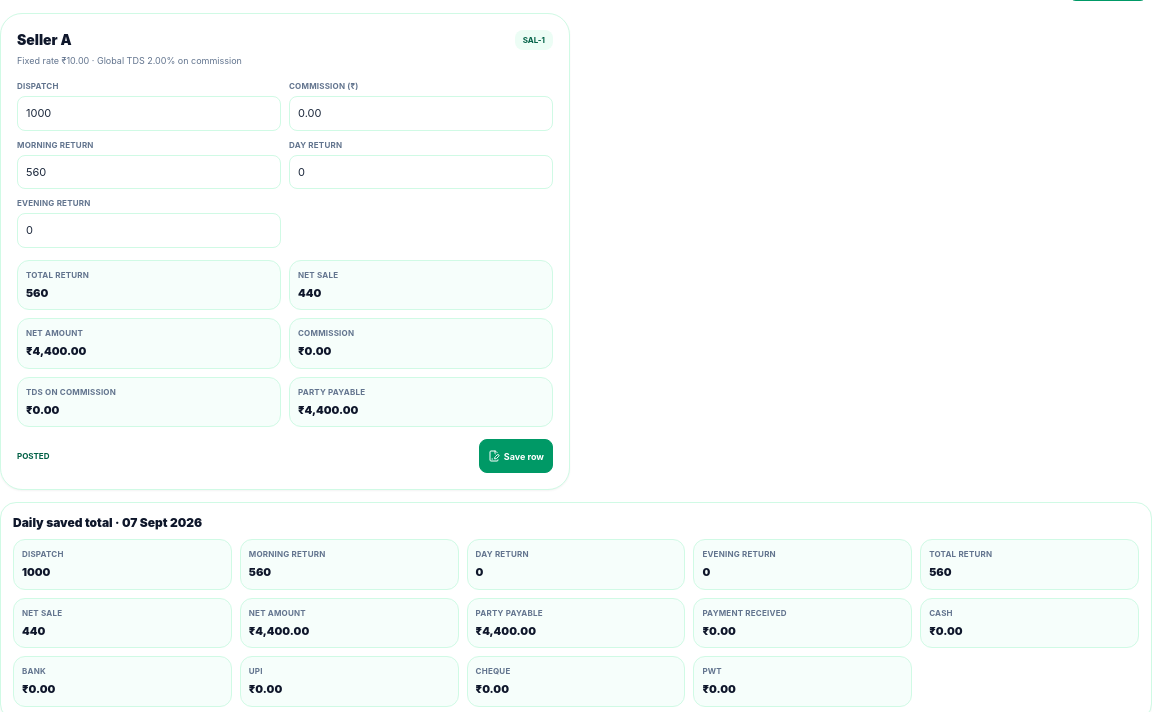
it: DailySellerEntry local-first projection › publishes a current manual persistence error and shows the original Error message
(page scrolled)
Click the button "Save row" at (516, 456), box [479, 439, 553, 473]
(page scrolled)
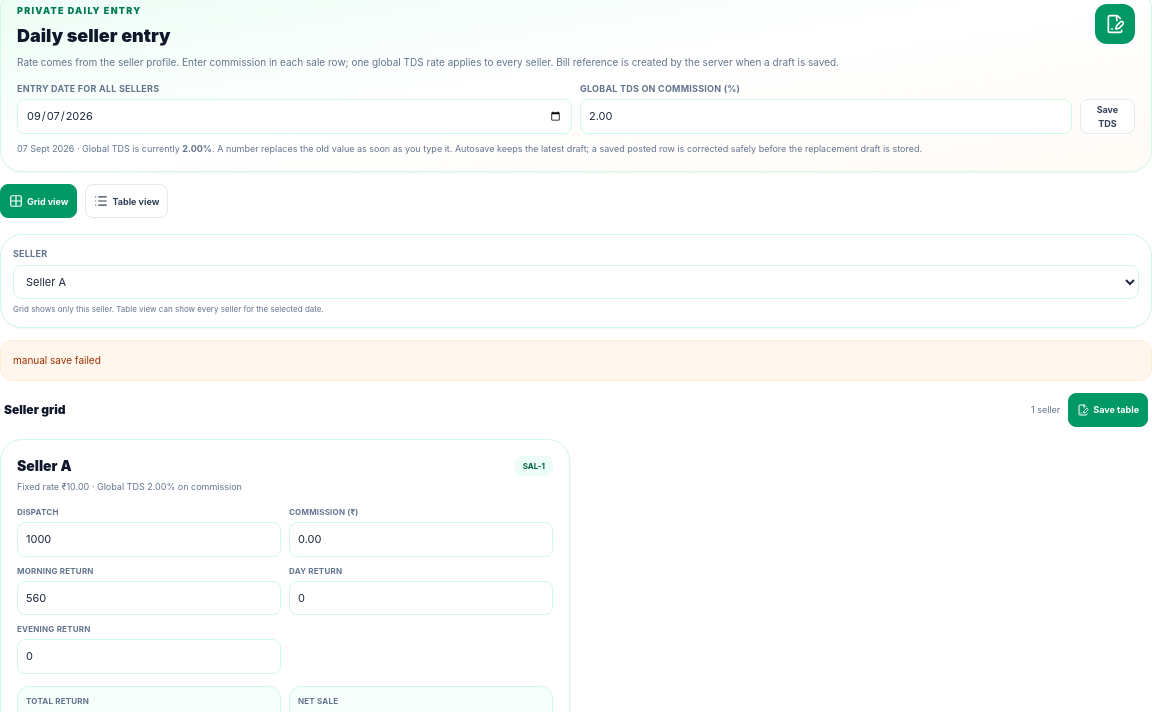
expect the text "manual save failed" is shown: met, box [0, 340, 1151, 381]
